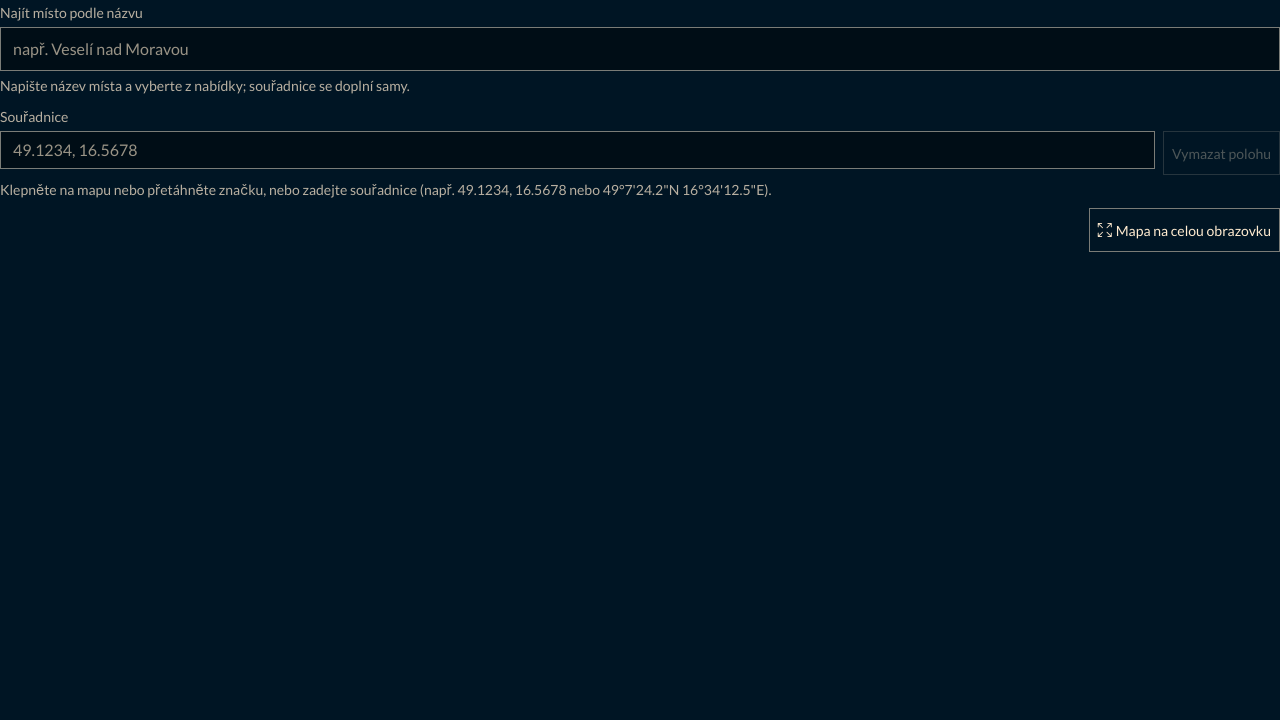
Scenario: LocationPicker full screen › picks on the full-screen map
Click the button "Mapa na celou obrazovku" at (1184, 230), box [1089,208,1279,252]
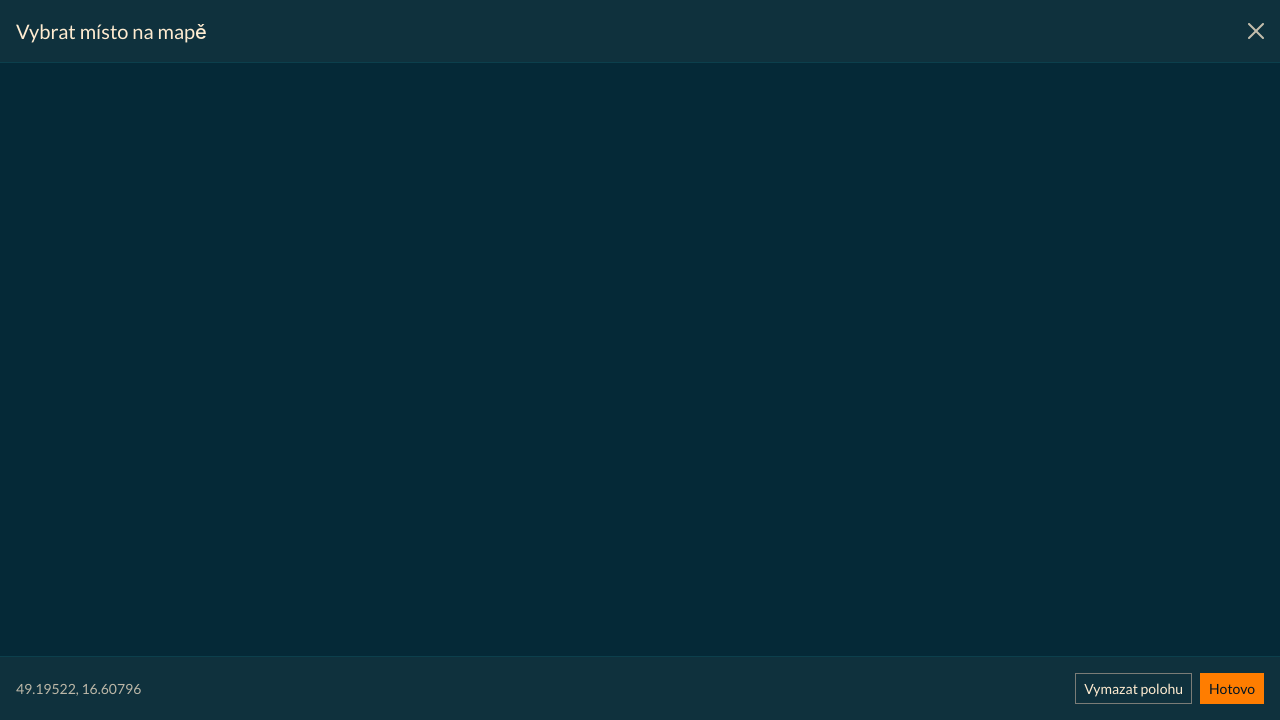
Expected: the dialog is shown
